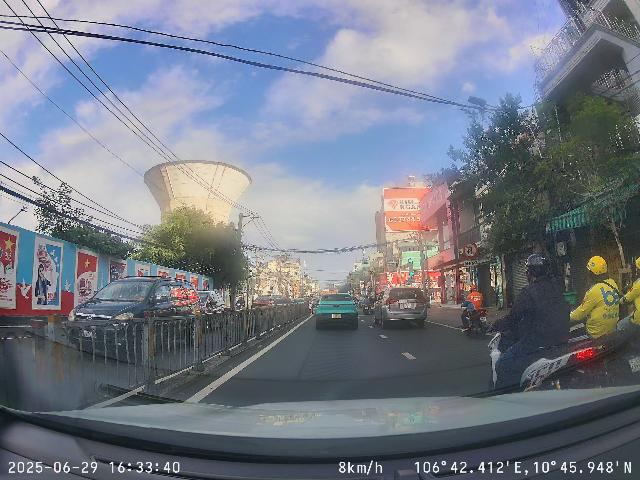124a-cam-quay-dau-xe: (463, 242, 478, 259)
